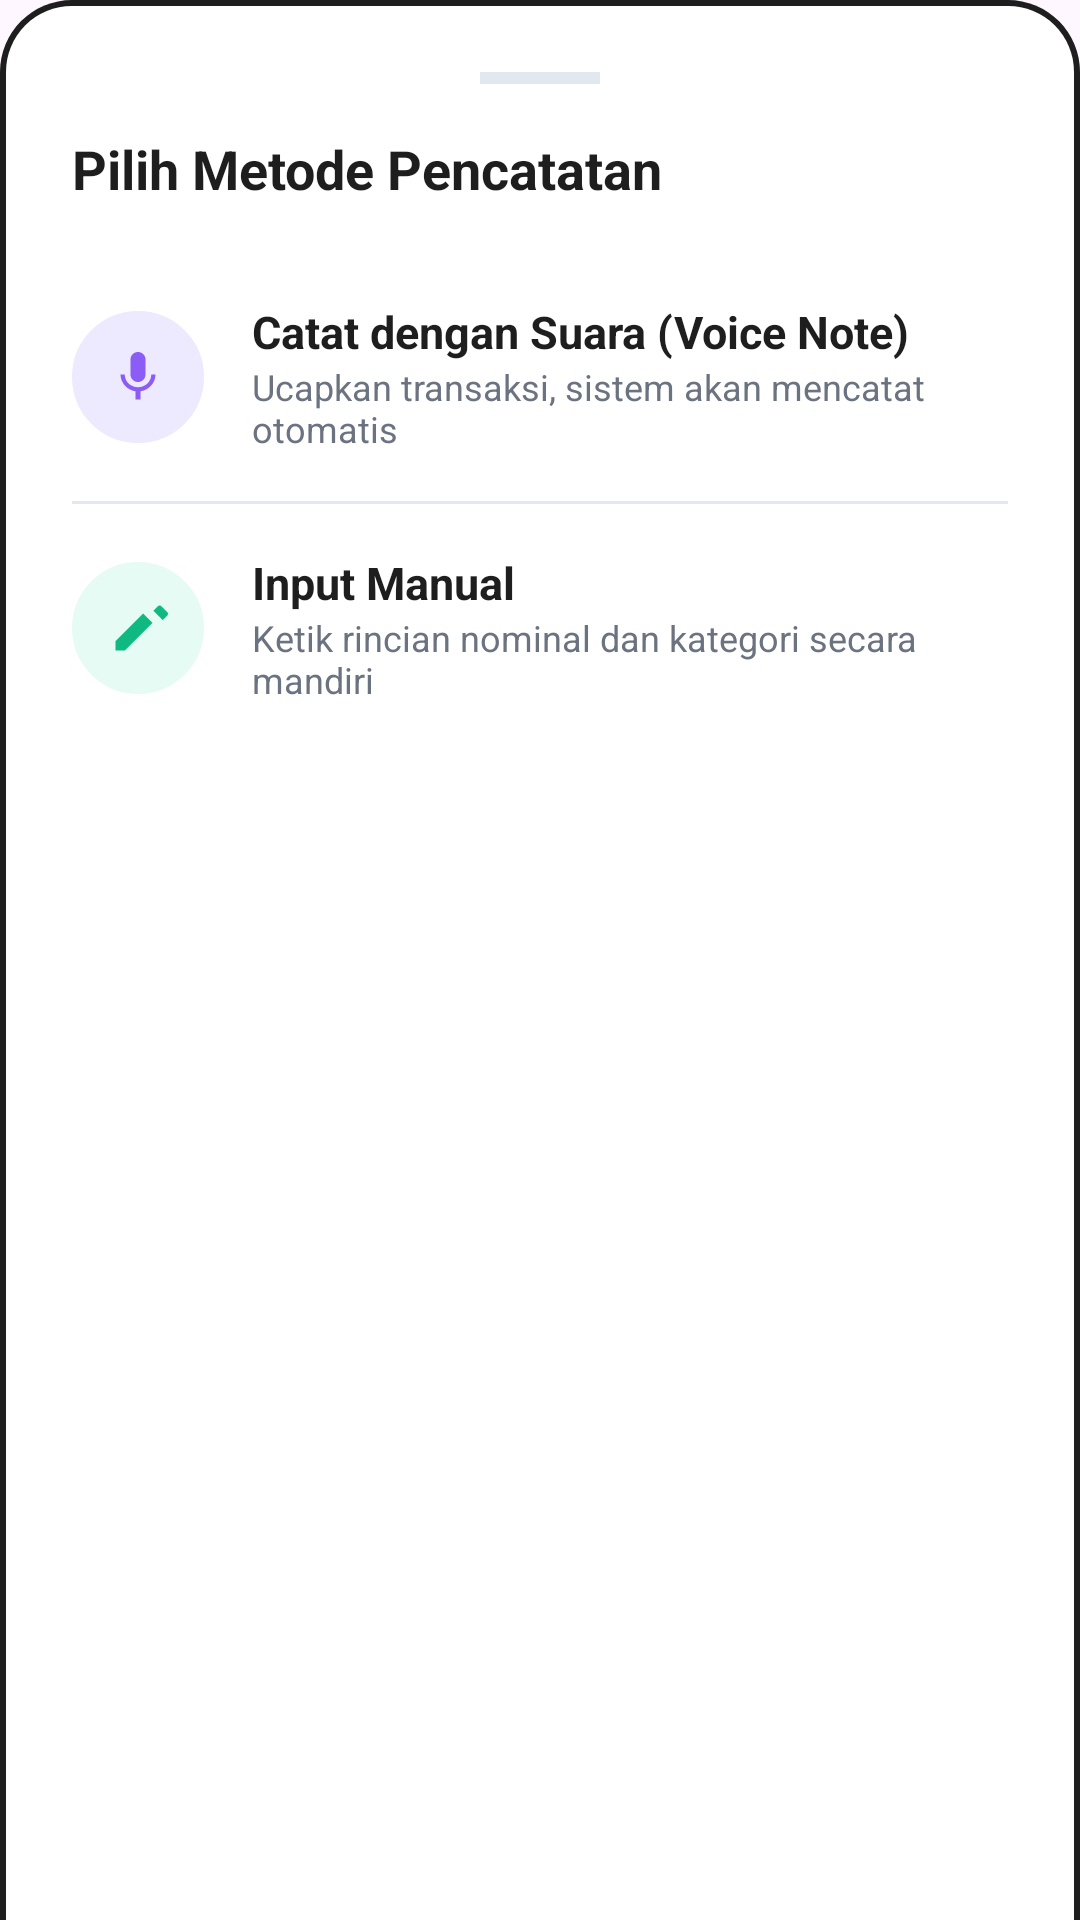

Locate icon controls on the screen. Image size 1080x1920, boxes as bbox=(x1, y1, x2, y2).
edit: bbox=(72, 562, 204, 694)
mic: bbox=(72, 311, 204, 443)
